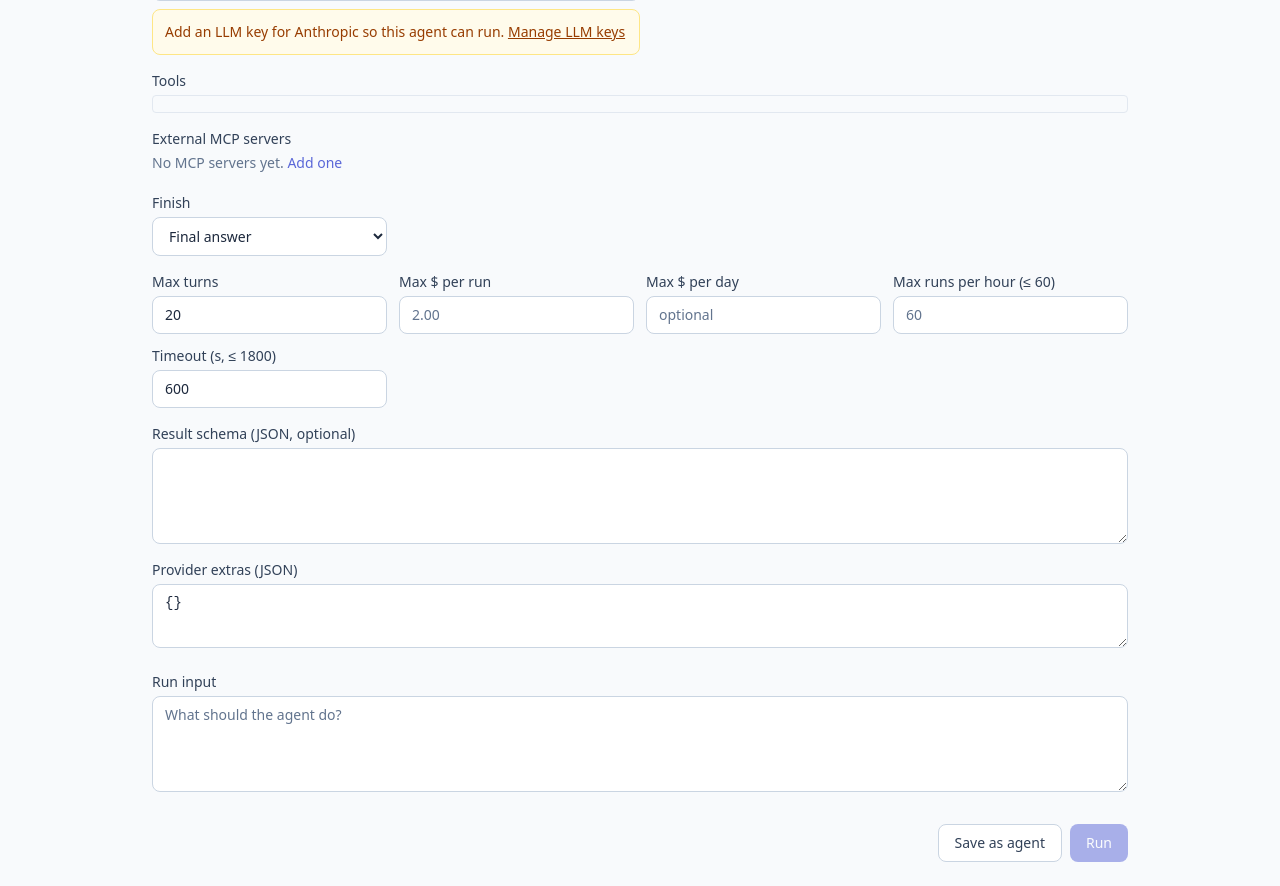
Test: AdHocRun › shows a save failure inside the dialog
This screenshot has width=1280, height=886.
(page scrolled)
Click the button "Save as agent".
click(1000, 843)  # box [938,824,1062,862]
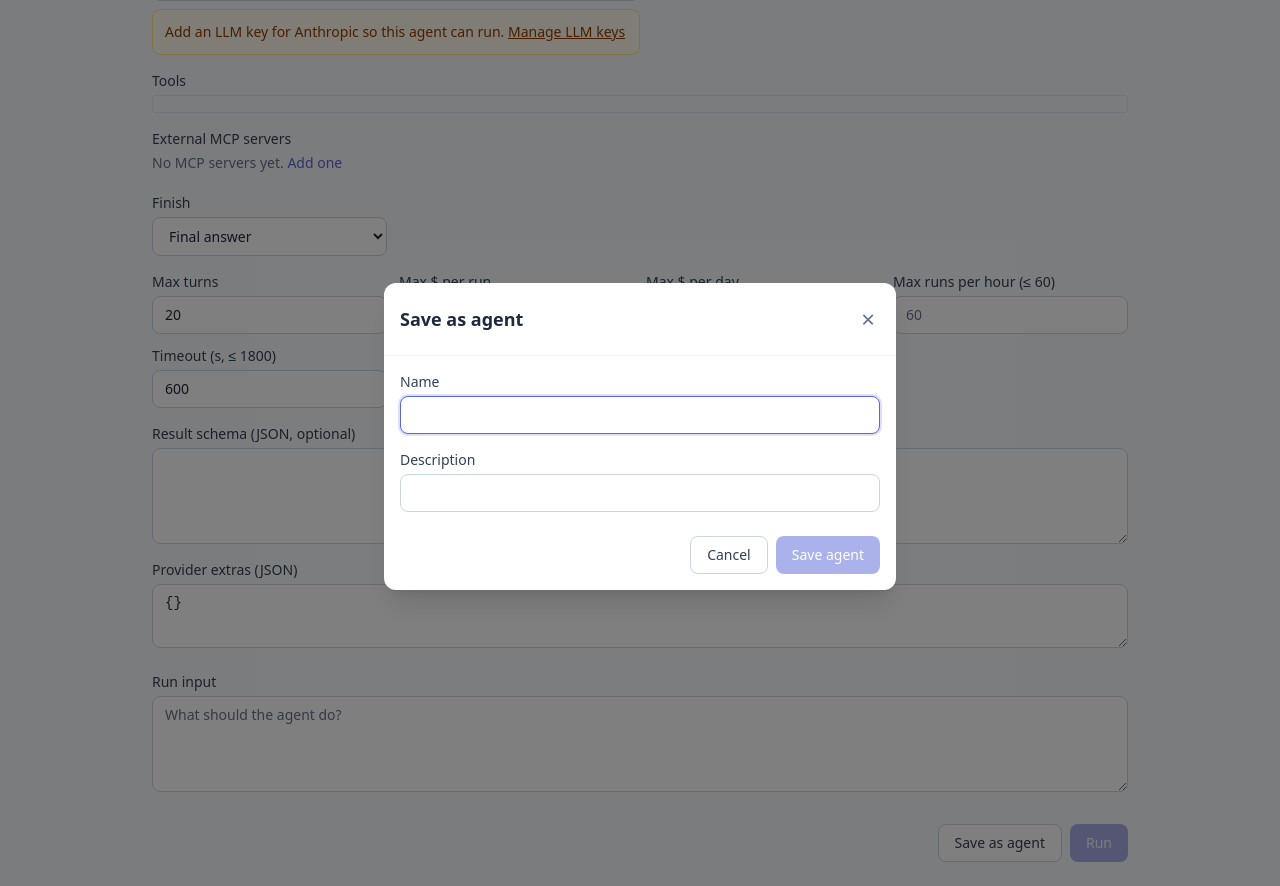
Type "digest" into the field labelled "Name".
click(640, 414); type("digest")  # box [400,396,880,434]
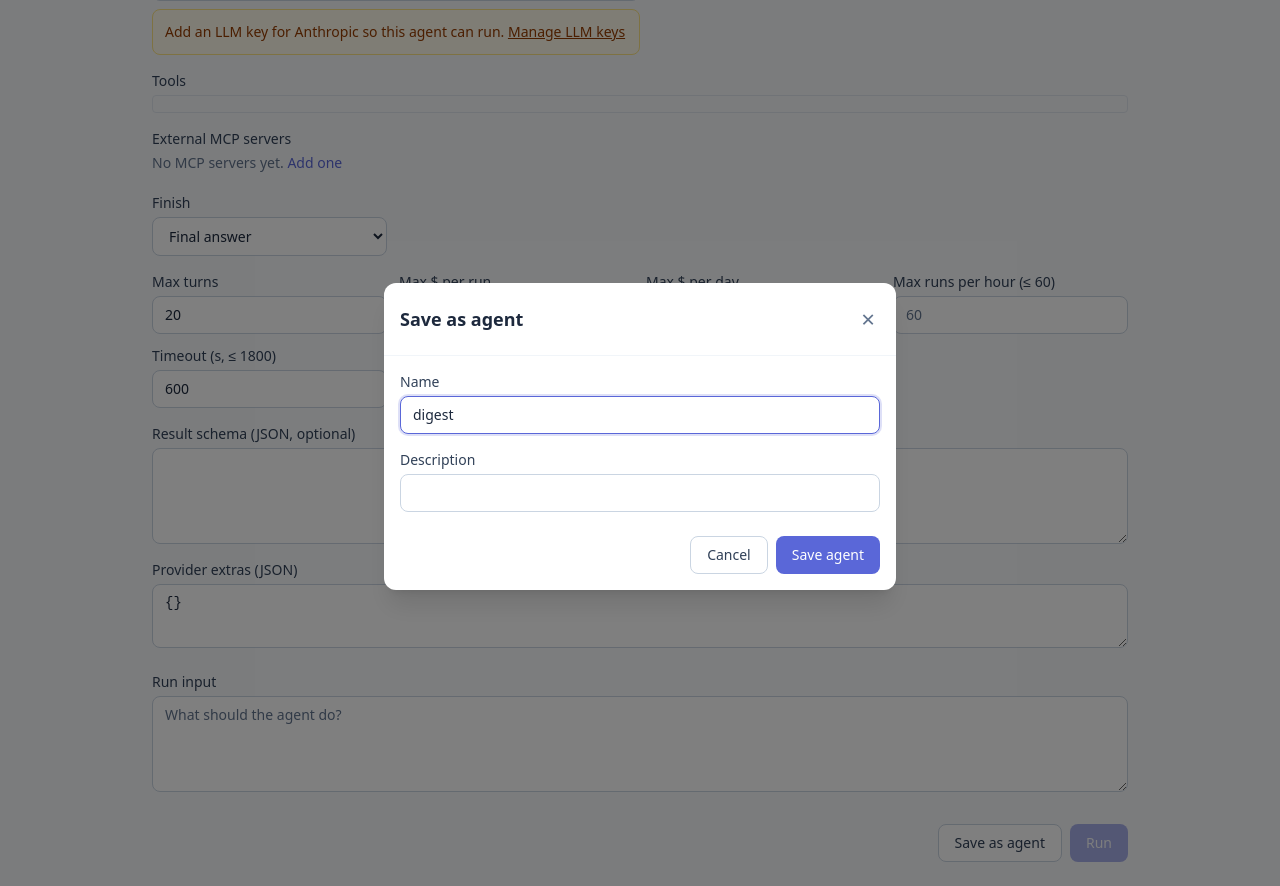
Click the button "Save agent".
click(828, 554)  # box [776,536,880,574]
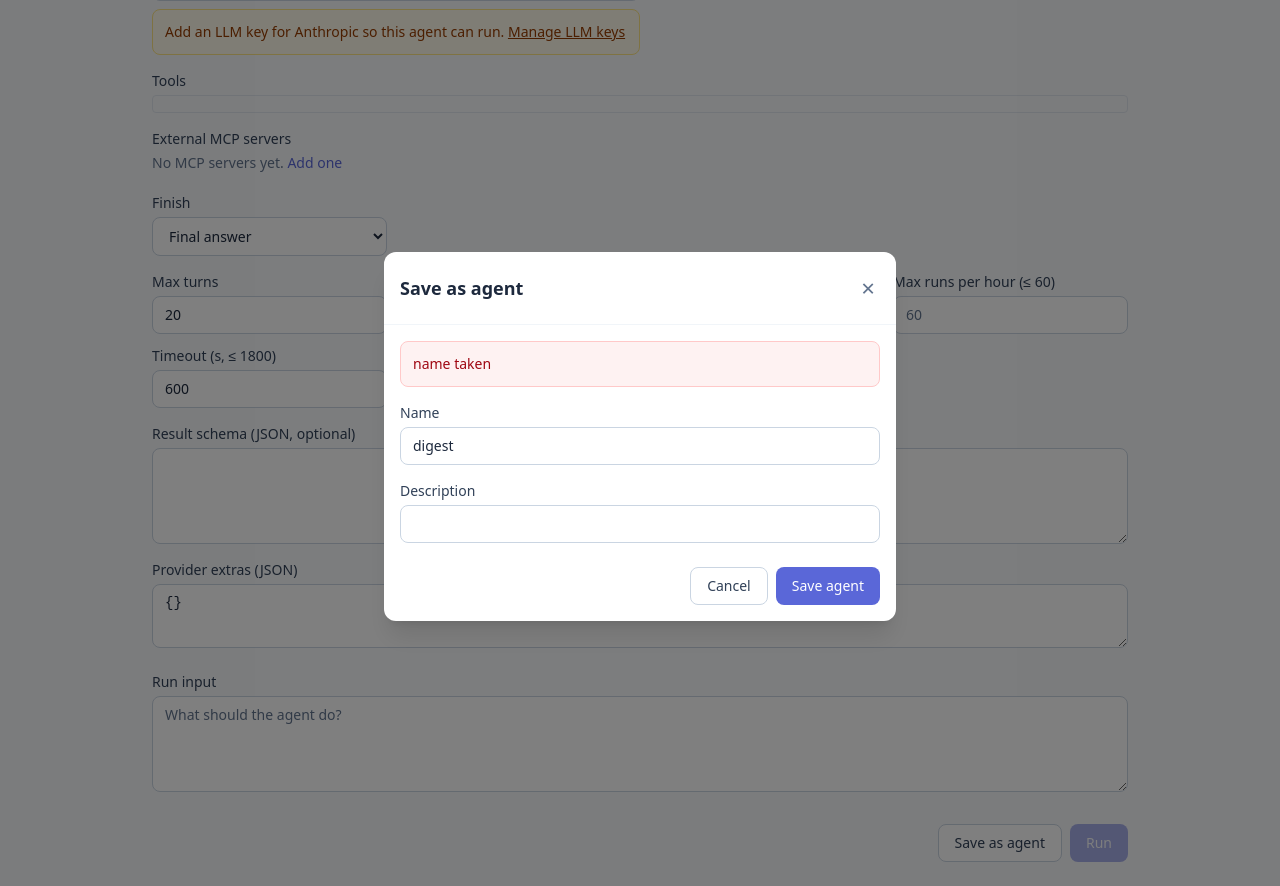
Expected: the text "name taken" is shown, [413,354,491,374]
